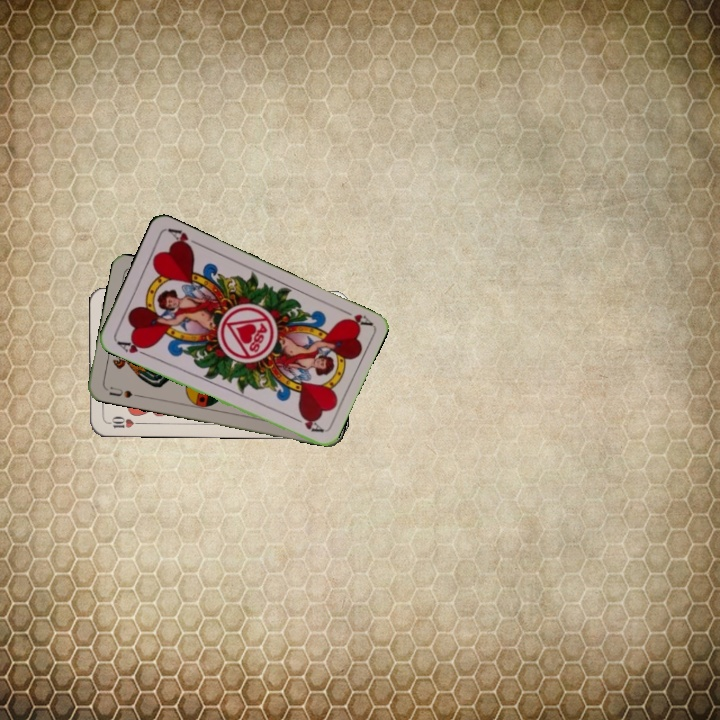H10: (103, 412, 143, 431)
HA: (335, 304, 373, 329), (113, 336, 152, 359)
SU: (105, 382, 142, 401)
